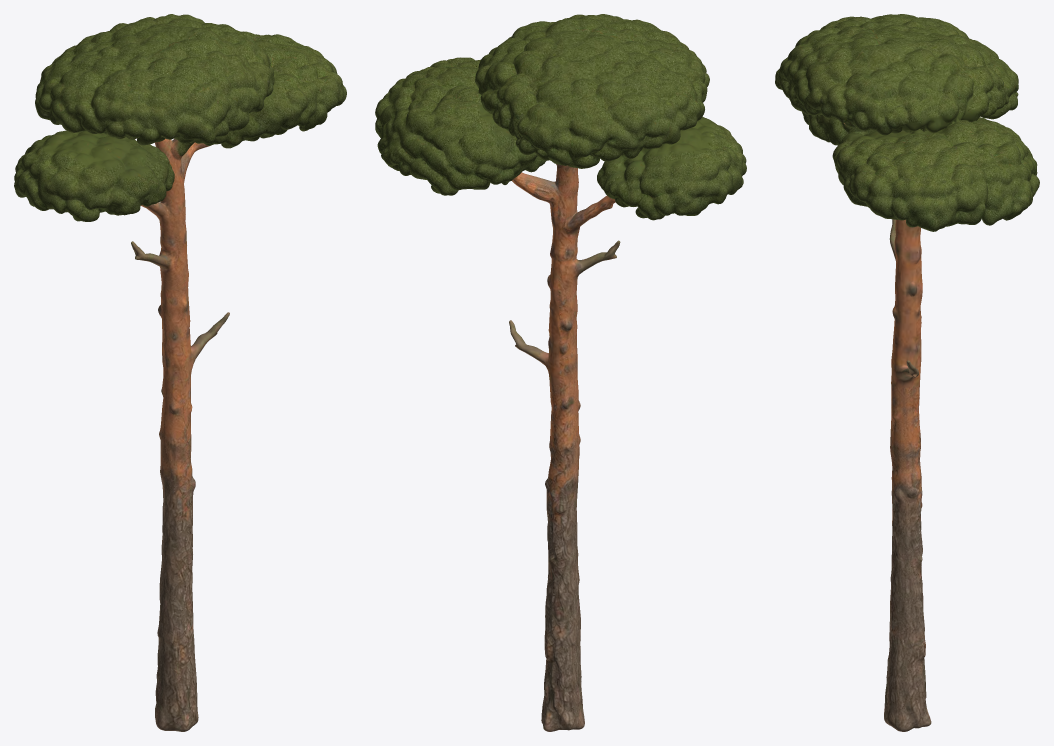
File: pino.glb
The picture shows the model from 3 angles, left to right: view 1: azimuth 30°, elevation 25°; view 2: azimuth 150°, elevation 25°; view 3: azimuth 270°, elevation 25°; orthographic projection. The views are drawn at different scales.
Visible parts, largest first — view 1: aligerado; view 2: aligerado; view 3: aligerado.
Boxes of the visible parts, bbox=[...] form: aligerado: bbox=[14, 14, 346, 731]; aligerado: bbox=[375, 14, 746, 731]; aligerado: bbox=[775, 14, 1039, 731].
Size of the model in its own units: 4.73 by 9.5 by 3.33.
1 material, 1 textured.
